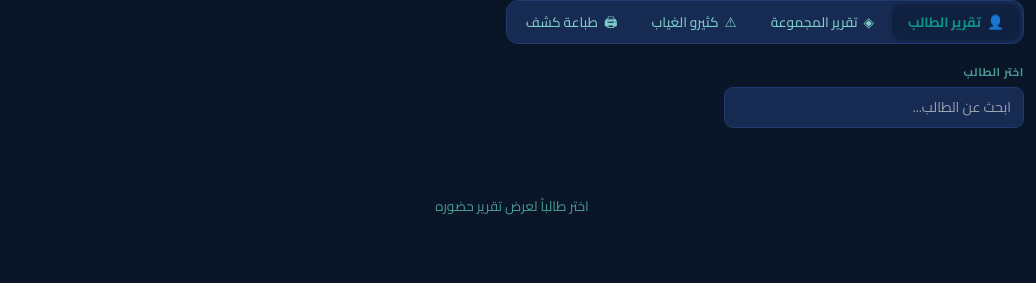
AttendanceReports — "كثيرو الغياب" tab uses the scoped/aggregate GET (C4 Attendance migration Phase 2) › renders the list from the aggregate response — names, absence count, percentage, severity, sorted most-absent-first
Click the button "⚠ كثيرو الغياب": (694, 22) [636,4,753,40]
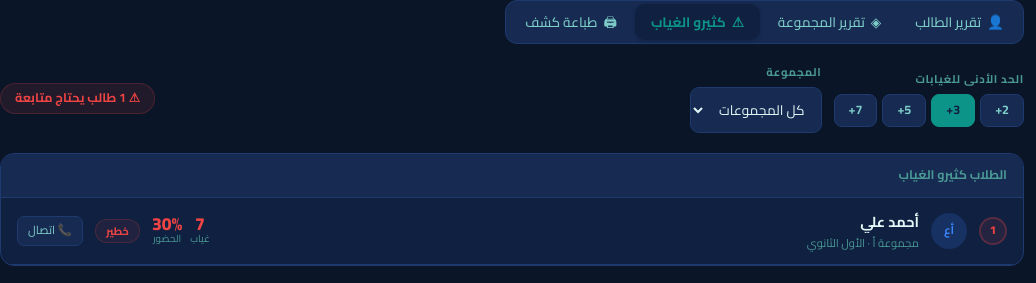
Result: the text "أحمد علي" is shown at [860,208,919,235]
Result: the text "30%" is shown at [152,215,182,232]
Result: the text "خطير" is shown at [95,219,140,243]
